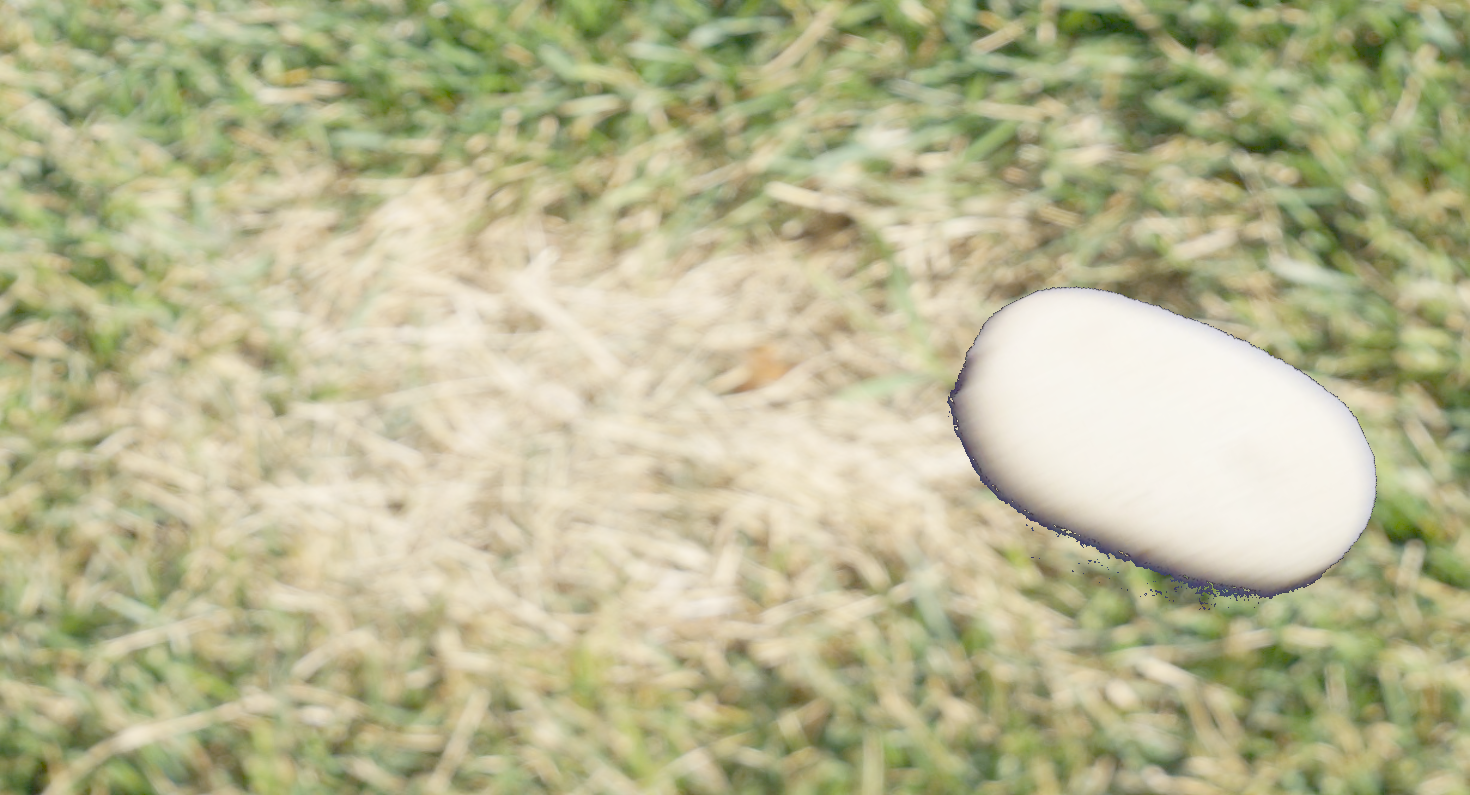test: (913, 190, 1413, 696)
